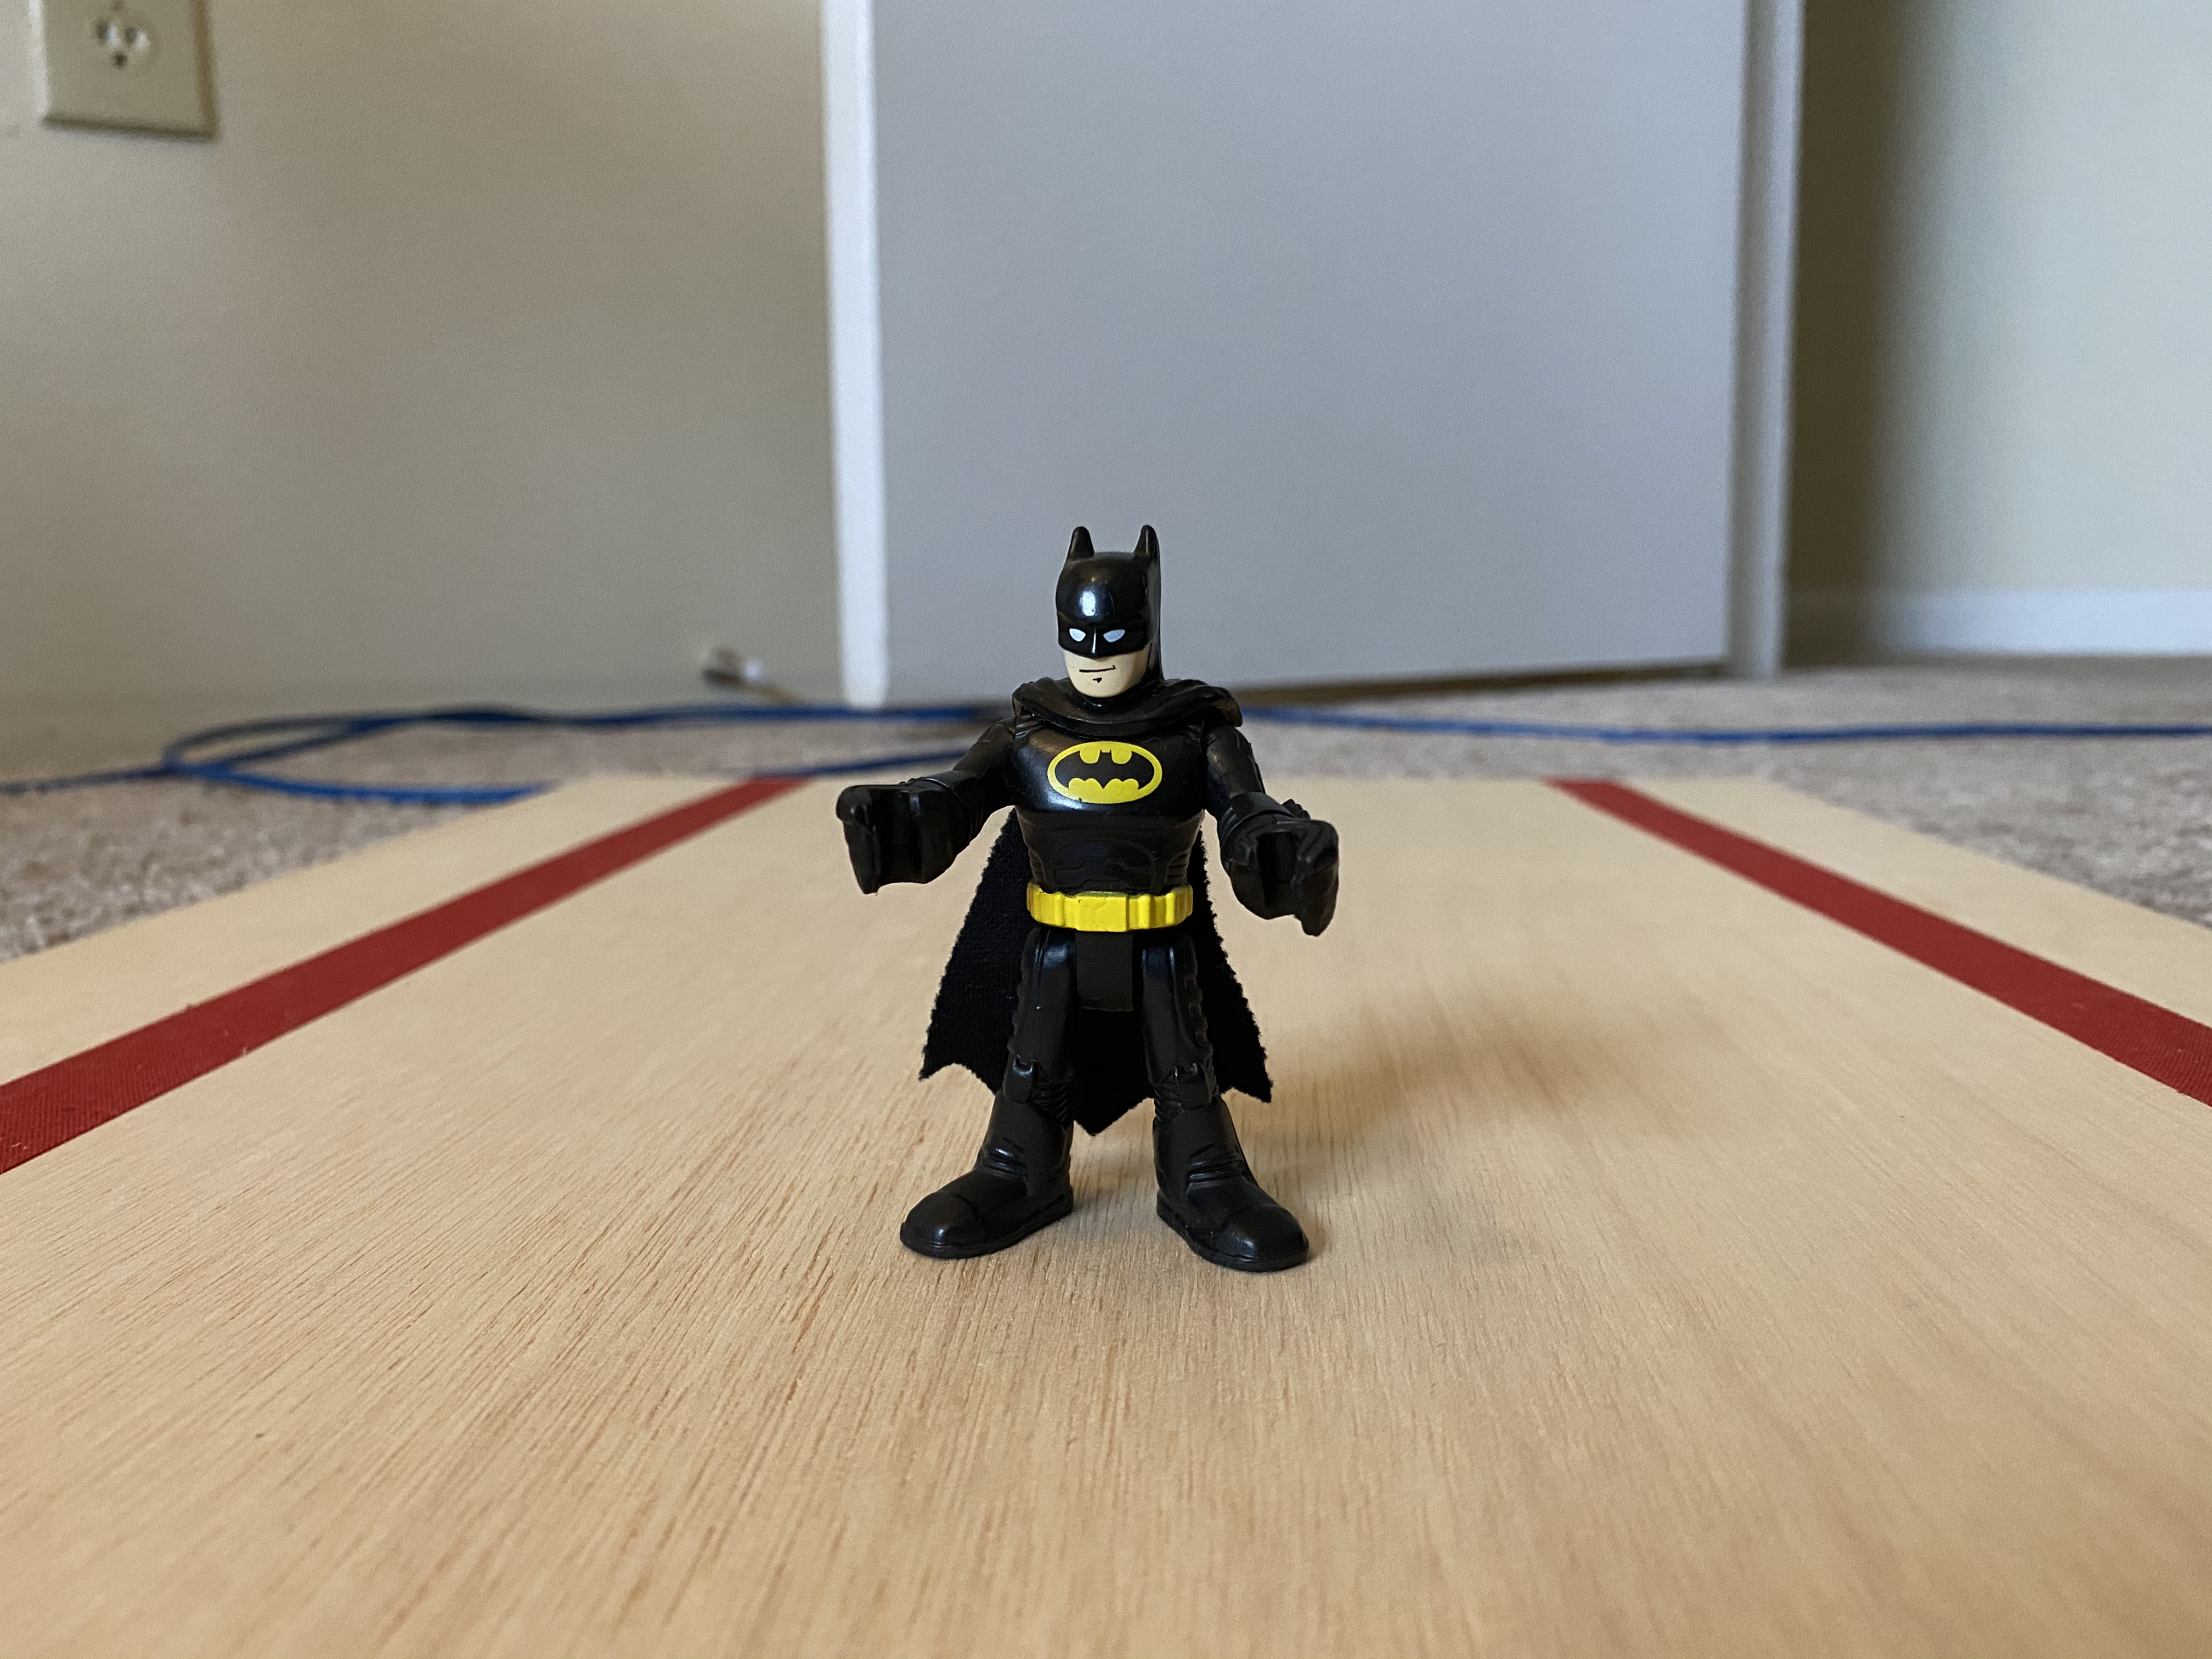Person: (827, 514, 1408, 1296)
